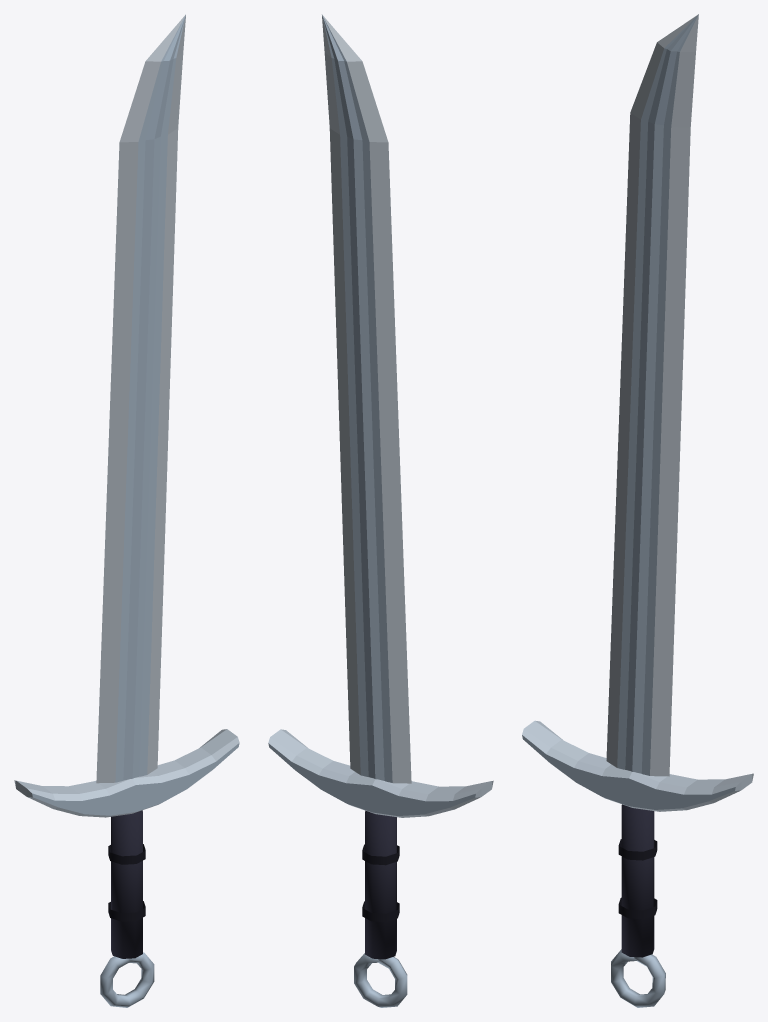
File: titanium_broadsword.glb
3 renders of one model, left to right at view 1: azimuth 30°, elevation 25°; view 2: azimuth 150°, elevation 25°; view 3: azimuth 330°, elevation 25°, orthographic. The views are drawn at different scales.
Visible parts, largest first — view 1: titanium_broadsword_v0; view 2: titanium_broadsword_v0; view 3: titanium_broadsword_v0.
Part boxes in pixels (<box>): titanium_broadsword_v0: <box>14,14,239,1007</box>; titanium_broadsword_v0: <box>268,14,493,1007</box>; titanium_broadsword_v0: <box>522,14,753,1007</box>.
Bounding box in the file's own units: 0.3105 × 1.38 × 0.0496.
